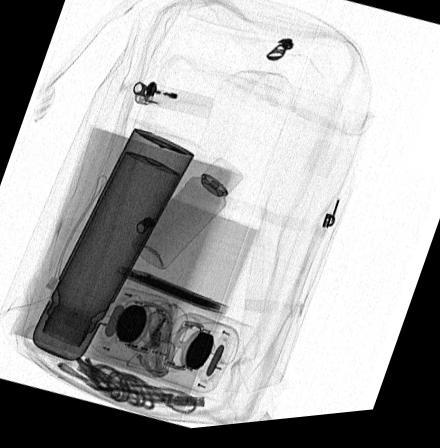Lighter: (128, 81, 214, 123)
Powerbank: (113, 268, 229, 319)
Sprayer: (129, 161, 245, 273)
